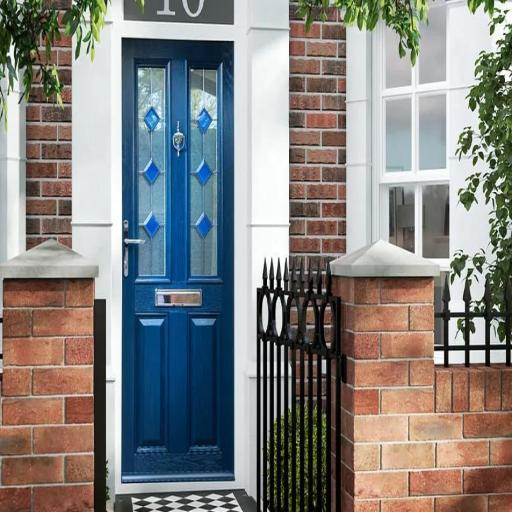door: (114, 29, 248, 507)
